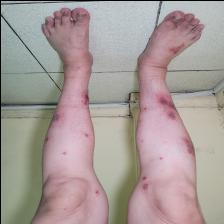Psoriasis vulgaris: (152, 93, 176, 121), (179, 133, 194, 156), (50, 111, 60, 123), (79, 126, 88, 138), (140, 172, 148, 182), (140, 182, 149, 190), (42, 135, 50, 143), (58, 146, 66, 154)
